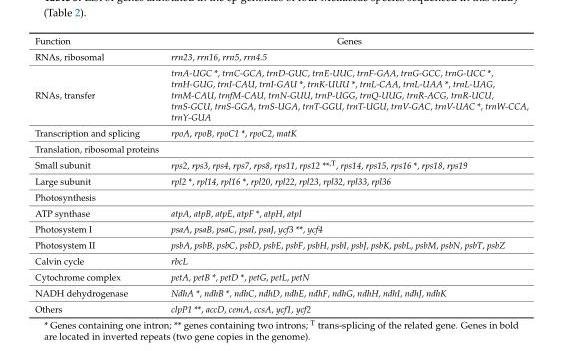table: (34, 34, 527, 314)
table column: (164, 34, 527, 314), (34, 34, 164, 314)
table projected row header: (34, 188, 527, 204), (34, 140, 527, 155)
table row: (34, 64, 527, 124), (34, 155, 527, 172), (34, 48, 527, 64), (34, 124, 527, 140), (34, 172, 527, 188), (34, 188, 527, 204), (34, 204, 527, 220), (34, 220, 527, 236), (34, 236, 527, 252), (34, 252, 527, 268), (34, 268, 527, 284), (34, 284, 527, 300), (34, 140, 527, 155), (34, 34, 527, 48), (34, 300, 527, 314)
